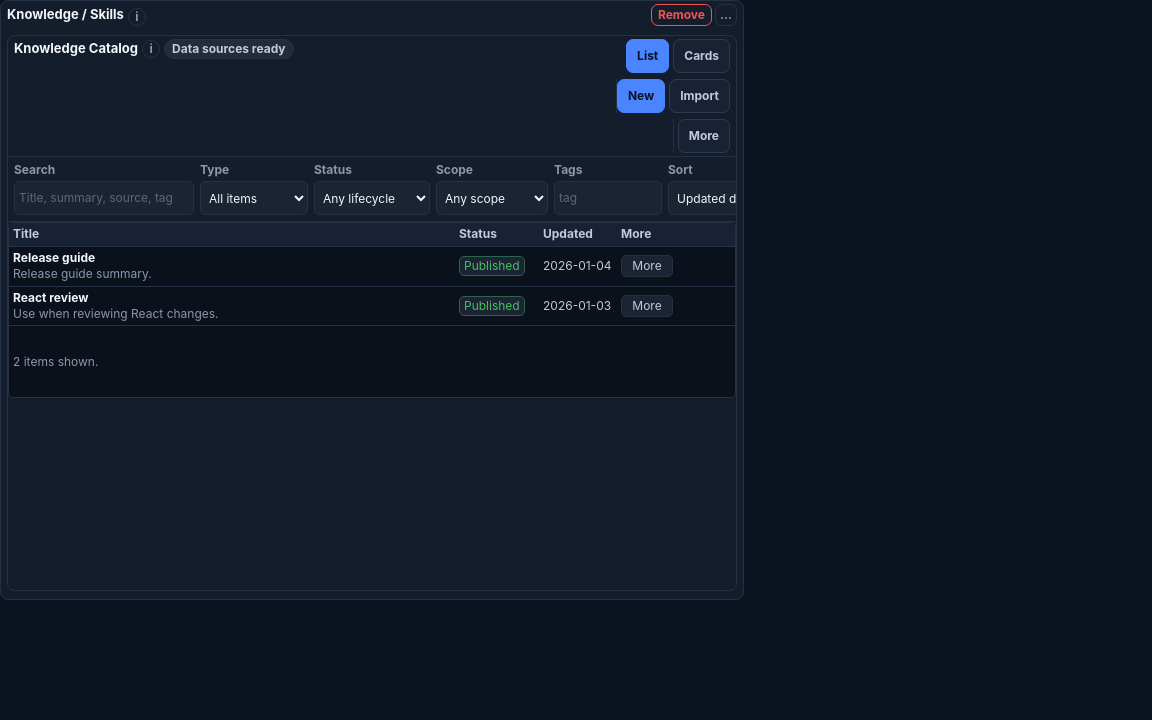
Scenario: Knowledge / Skills compatibility routing › keeps the existing draft review flow reachable from the active Knowledge route
Click the 1st button "More". click: point(704, 136)
box: [678, 119, 730, 153]
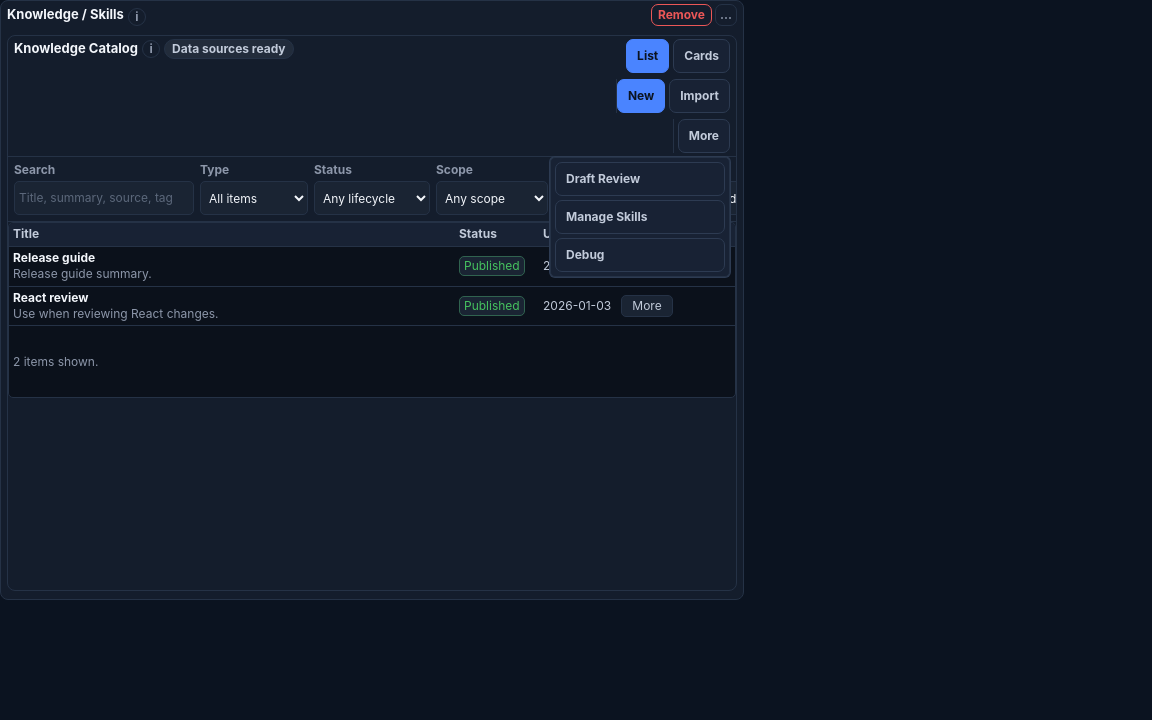
expect the menu item "Draft Review" is shown: met
Click the menu item "Draft Review". click: point(640, 179)
box: [555, 162, 725, 196]
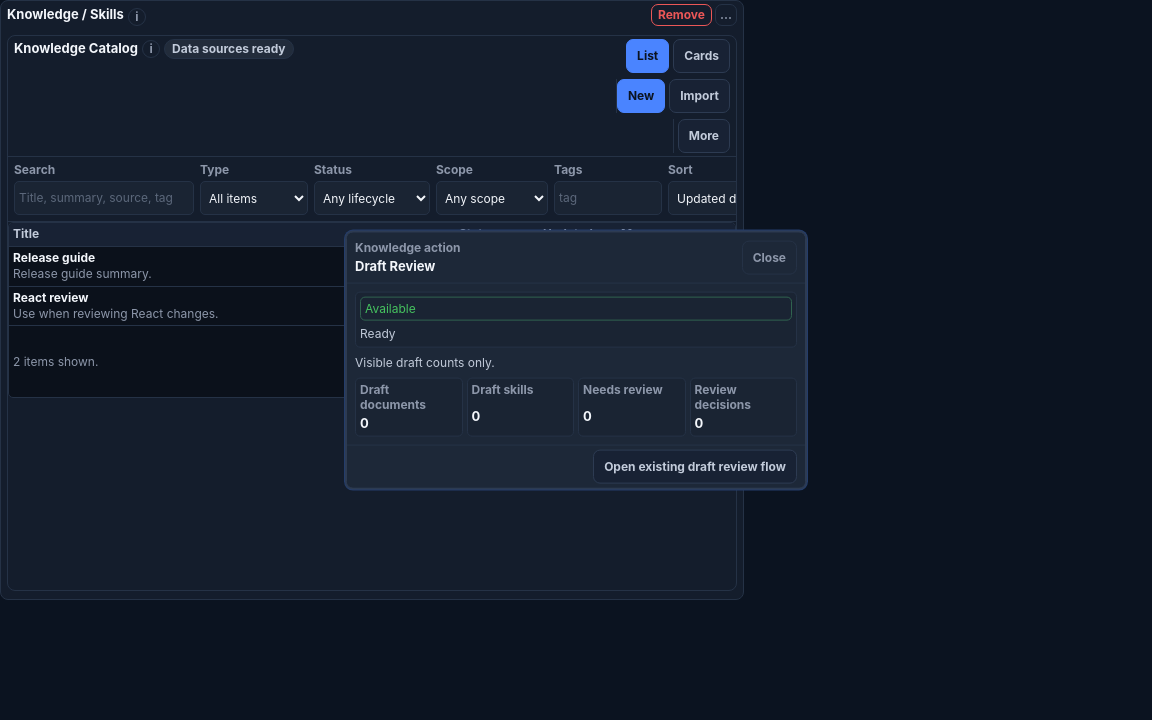
expect the button "Open existing draft review flow" is shown: met
Click the button "Open existing draft review flow". click: point(695, 466)
box: [593, 449, 797, 483]
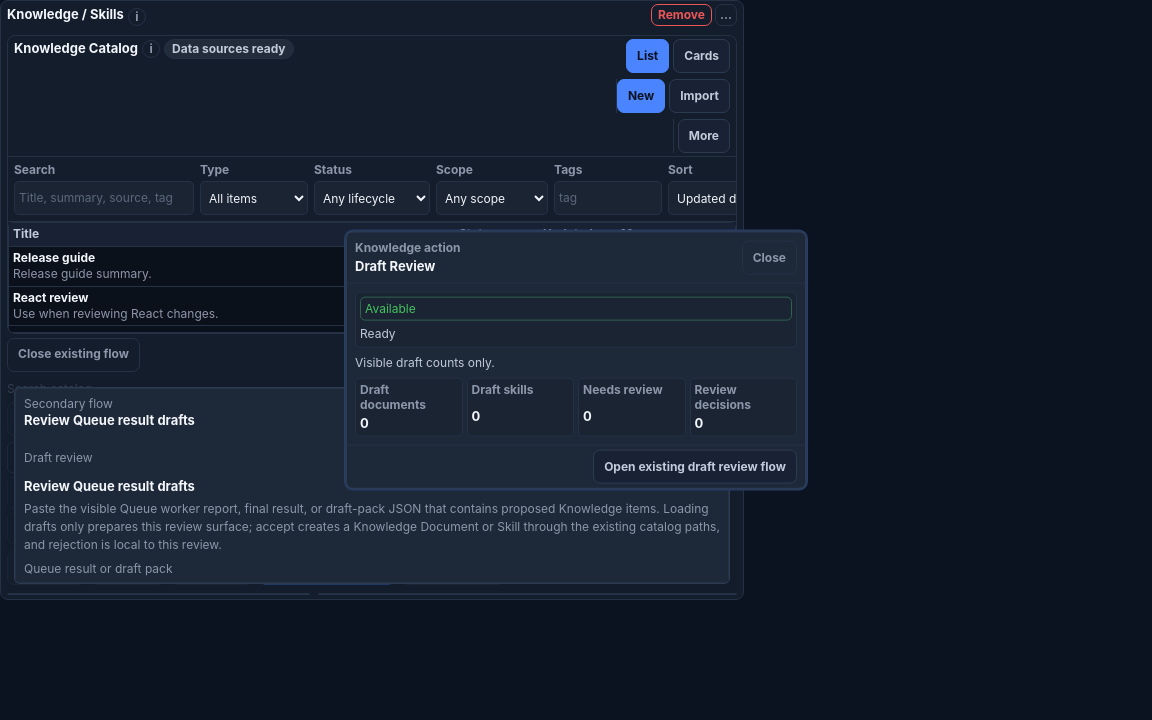
expect the element named "Legacy Knowledge / Skills existing flow" is shown: met, box [7, 338, 737, 591]
expect the element named "Queue Knowledge draft review" is shown: met, box [15, 388, 729, 583]
expect the text "Review Queue result drafts" is shown: met, box [24, 413, 195, 428]
